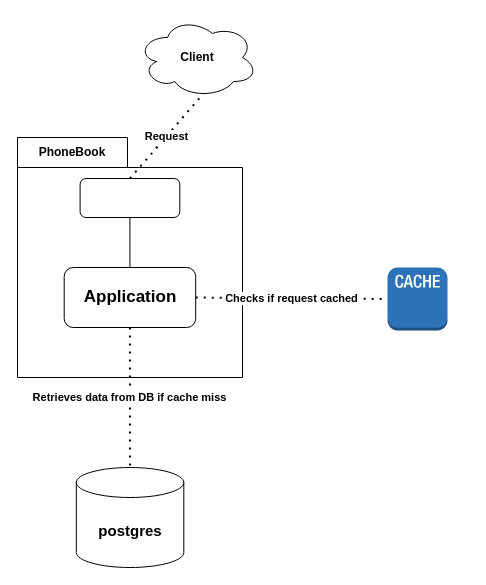
The diagram is 486 pixels wide and 585 high, and some of its shapes have lost their labels. The shapes that lost their labels are listed below. From the top down, each one's box as (x1, y1, x2, y2) in pixels, then its label:
(79, 178, 180, 218): API
(386, 266, 448, 330): Redis Cache
